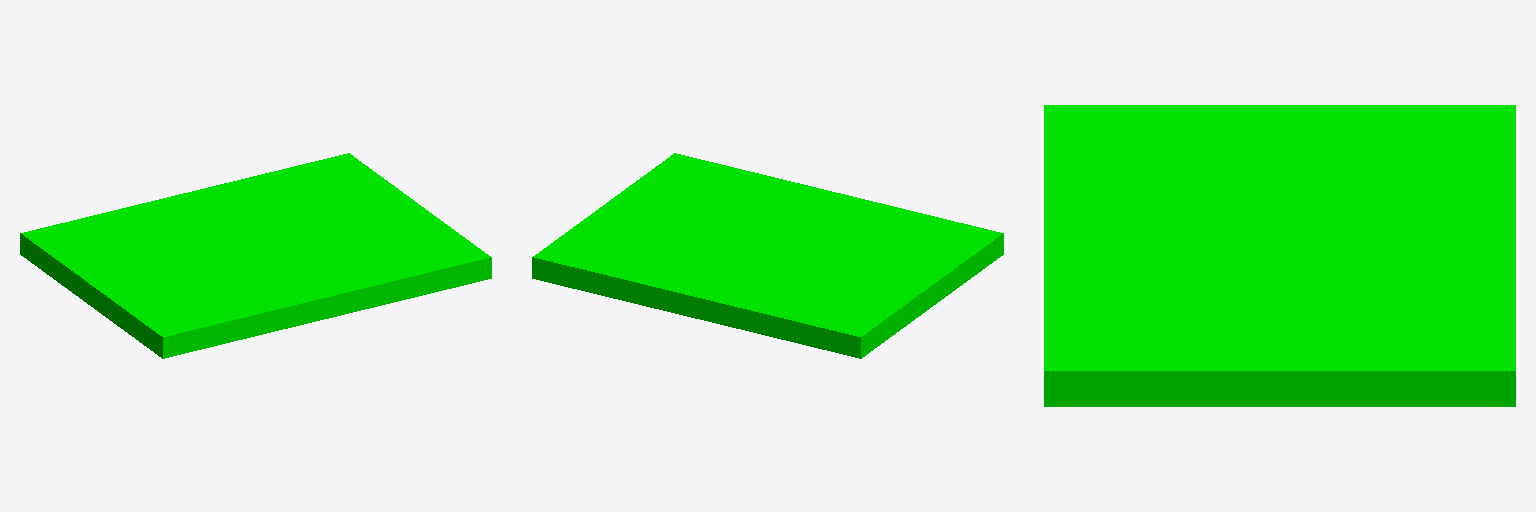
robot.urdf — obstacle:
<?xml version="0.0" ?>
<robot name="obstacle">
    <link name="base_link">
    <contact>
      <lateral_friction value="1"/>
    </contact>
    <inertial>
      <origin rpy="0 0 0" xyz="0 3.5 0.0625"/>
       <mass value="0.01"/>
       <inertia ixx="0" ixy="0" ixz="0" iyy="0" iyz="0" izz="0"/>
    </inertial>
      <visual>
        <origin rpy="0 0 0" xyz="0 3.5 0.0625"/>
        <geometry>
          <box size="2 1.5 0.125" />
        </geometry>
        <material name="green">
        <color rgba="0 1 0 1"/>
      </material>
      </visual>
      <collision>
      <origin rpy="0 0 0" xyz="0 3.5 0.0625"/>
          <geometry>
            <box size="2 1.5 0.125" />
          </geometry>
      </collision>
    </link>
</robot>

--- Render facts (derived) ---
Views: 3 orthographic renders of the robot side by side, from view 1: azimuth 30°, elevation 25°; view 2: azimuth 150°, elevation 25°; view 3: azimuth 270°, elevation 25°.
Model obstacle with 1 links and 0 joints (none), rooted at base_link, posed all joints at 0.
Links seen in each view (by area): view 1: base_link; view 2: base_link; view 3: base_link.
Boxes of the visible links, left/top/right/bottom form: base_link: left=20, top=153, right=491, bottom=358; base_link: left=532, top=153, right=1003, bottom=358; base_link: left=1044, top=105, right=1515, bottom=406.
Bounding box of the posed robot: 2 × 1.5 × 0.125 m (x, y, z).
Geometry: primitives only (box / cylinder / sphere), no mesh files.